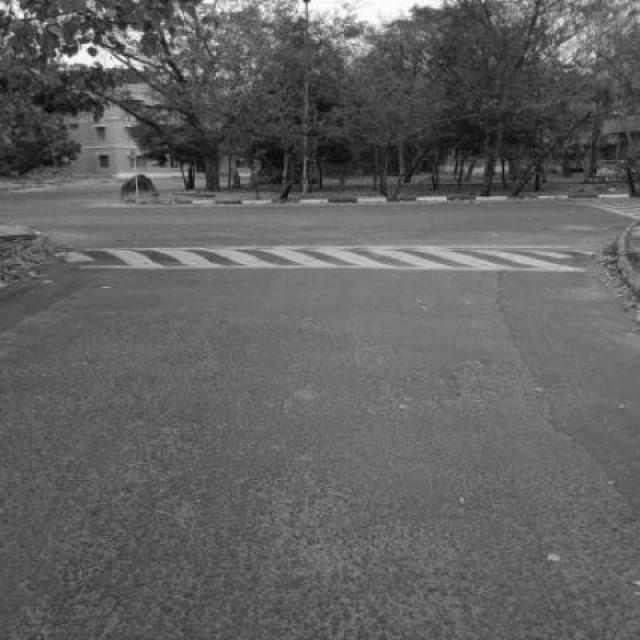Speed Bump: (44, 241, 616, 272)
